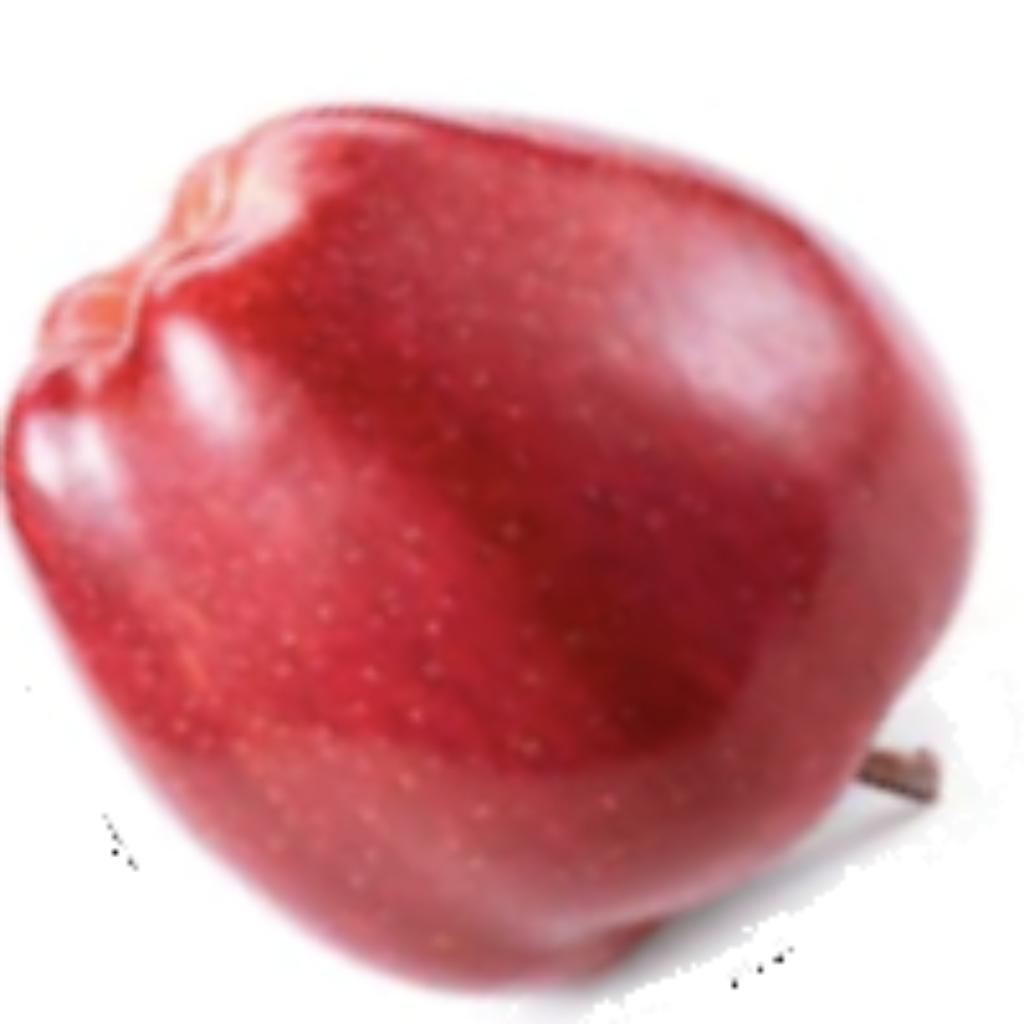apple: (0, 87, 993, 1019)
